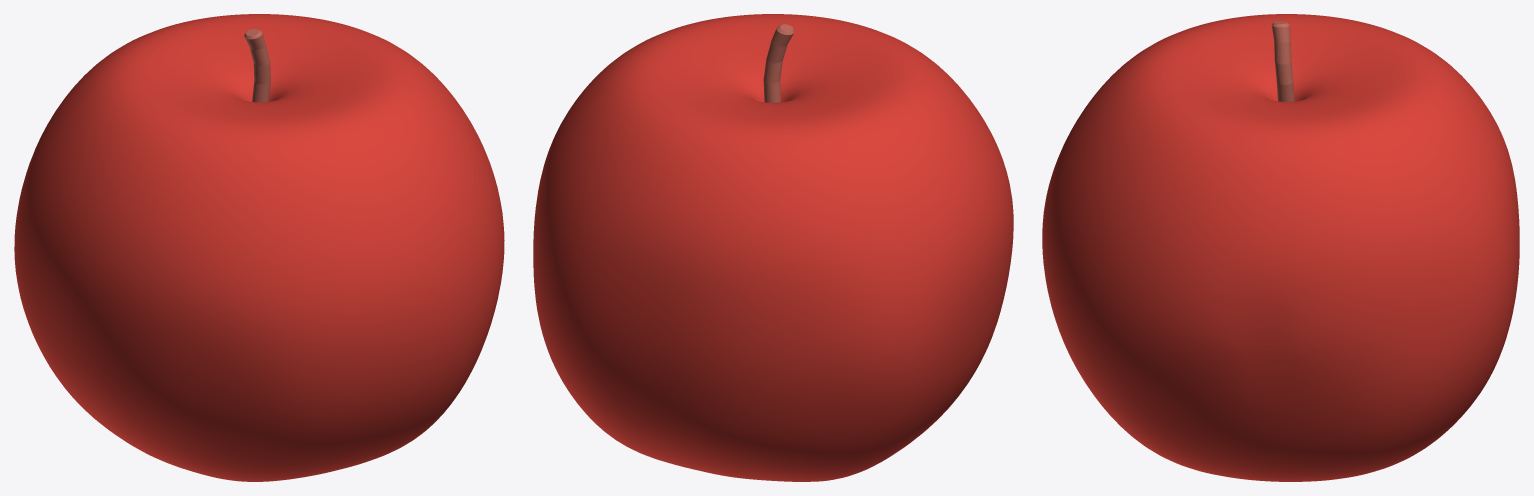
File: Apple.fbx
3 renders of one model, left to right at view 1: azimuth 30°, elevation 25°; view 2: azimuth 150°, elevation 25°; view 3: azimuth 270°, elevation 25°, orthographic.
Parts seen in each view (by area): view 1: Sphere, Sphere.001; view 2: Sphere, Sphere.001; view 3: Sphere, Sphere.001.
Part boxes in pixels (bbox=[...]): Sphere: bbox=[14, 14, 504, 481]; Sphere.001: bbox=[244, 29, 270, 102]; Sphere: bbox=[533, 14, 1013, 481]; Sphere.001: bbox=[763, 24, 794, 102]; Sphere: bbox=[1042, 14, 1519, 481]; Sphere.001: bbox=[1271, 21, 1294, 101].
Size of the model in its own units: 190 by 183 by 192.
